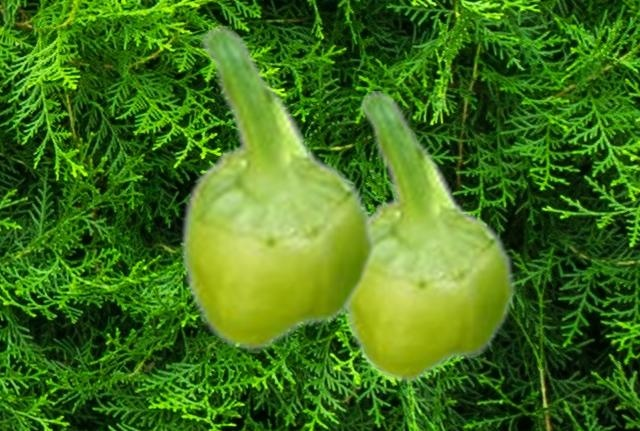bell_pepper: (179, 26, 376, 351), (340, 91, 516, 382)
